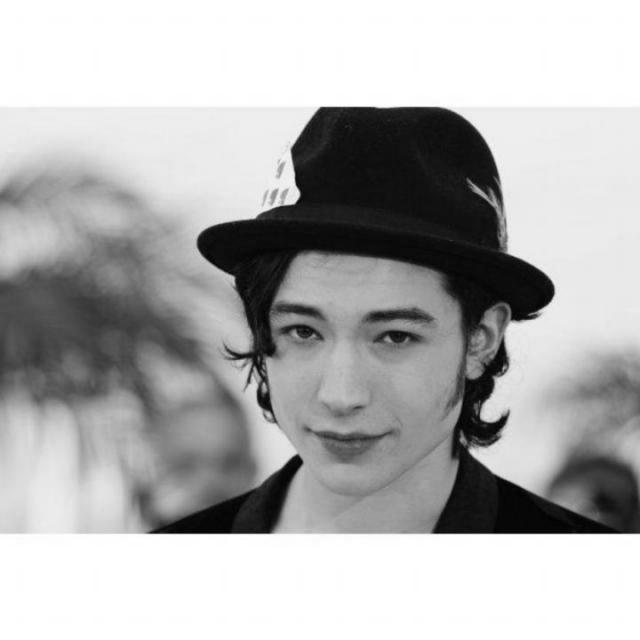real: (262, 261, 454, 497)
